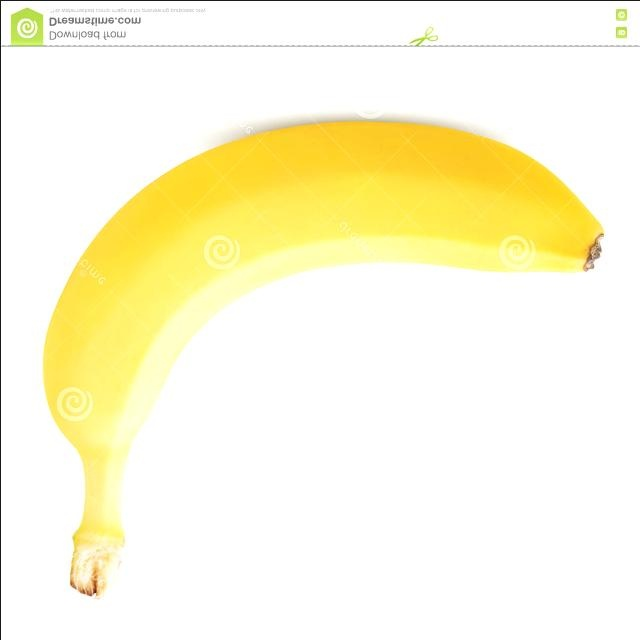agrume: (44, 115, 604, 602)
